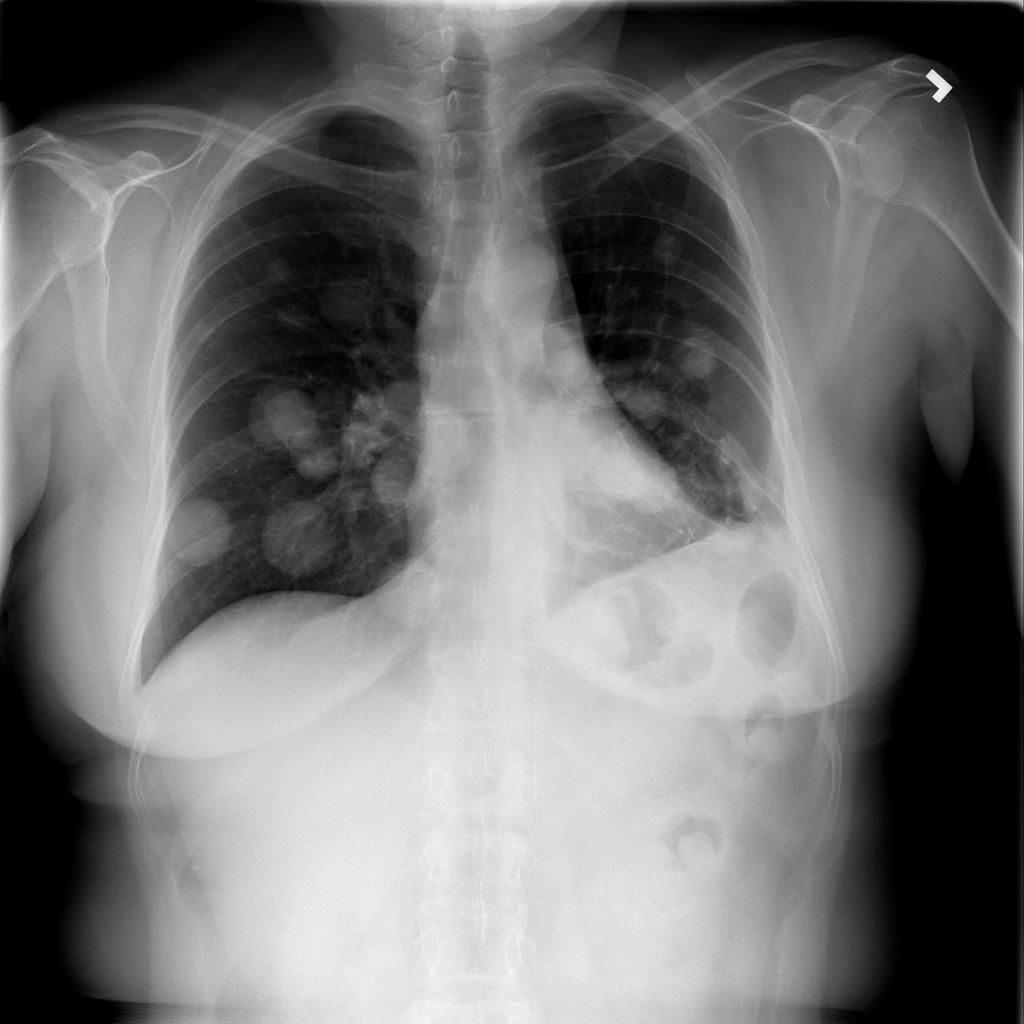nodule: (583, 435, 697, 542), (245, 489, 356, 588), (149, 477, 248, 580), (359, 540, 454, 637), (312, 263, 390, 340), (261, 389, 334, 463), (663, 320, 735, 393), (609, 369, 677, 439), (637, 217, 703, 284), (362, 448, 426, 515), (290, 443, 349, 487), (249, 244, 303, 292)
